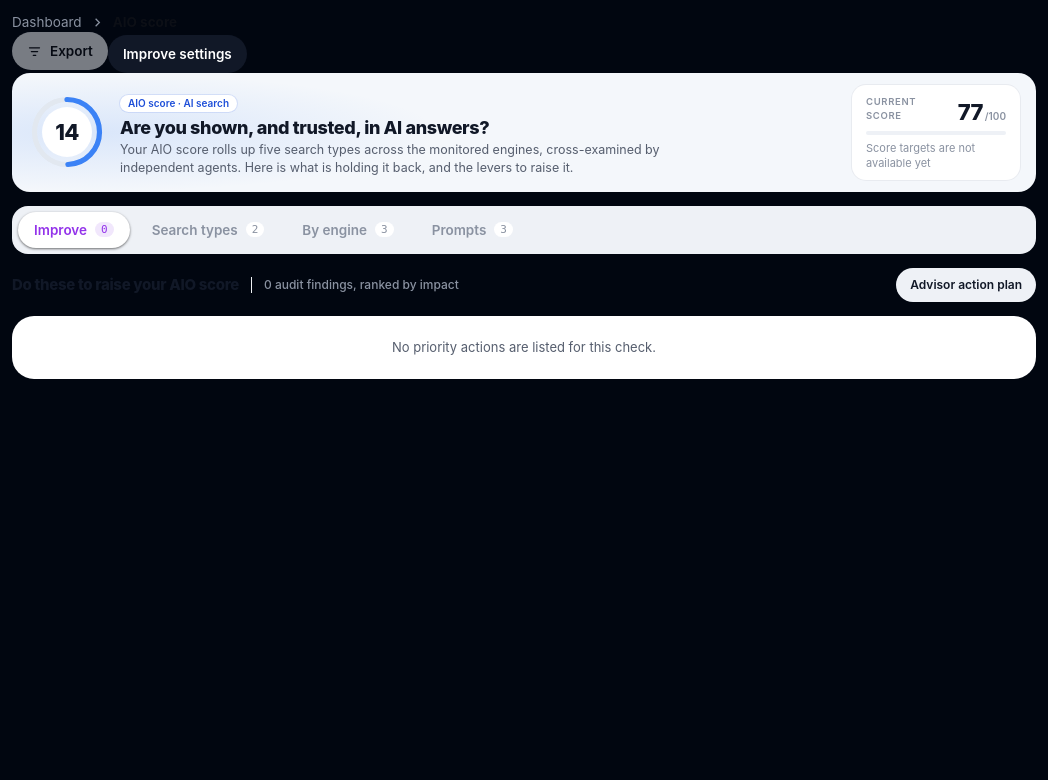
ProjectAeoPage (approved AIO detail) › switches to the Search types tab and expands a row
This screenshot has width=1048, height=780.
Click the tab "Search types 2".
click(208, 230)  # box [136,212,280,248]
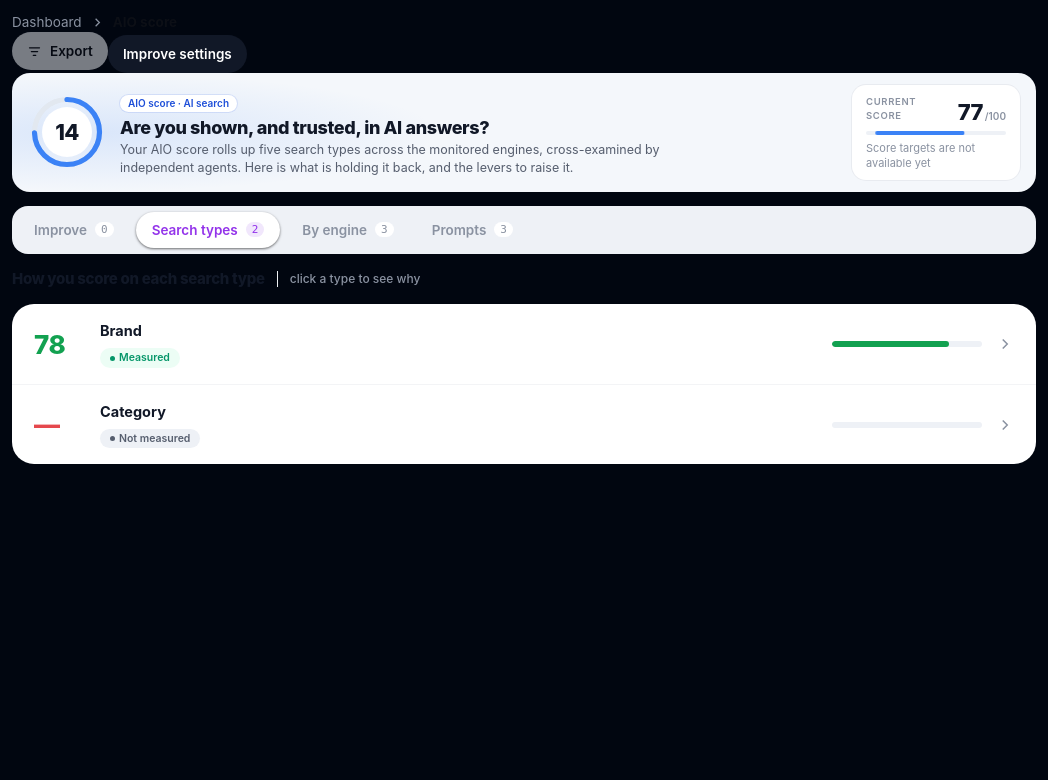
Check: the button "— Category Not measured" does not show "Estimated", box [12,385,1036,464]
Check: the button "78 Brand Measured" is shown
Check: the button "— Category Not measured" is shown, box [12,385,1036,464]
Click the button "78 Brand Measured".
click(50, 344)  # box [12,304,1036,384]
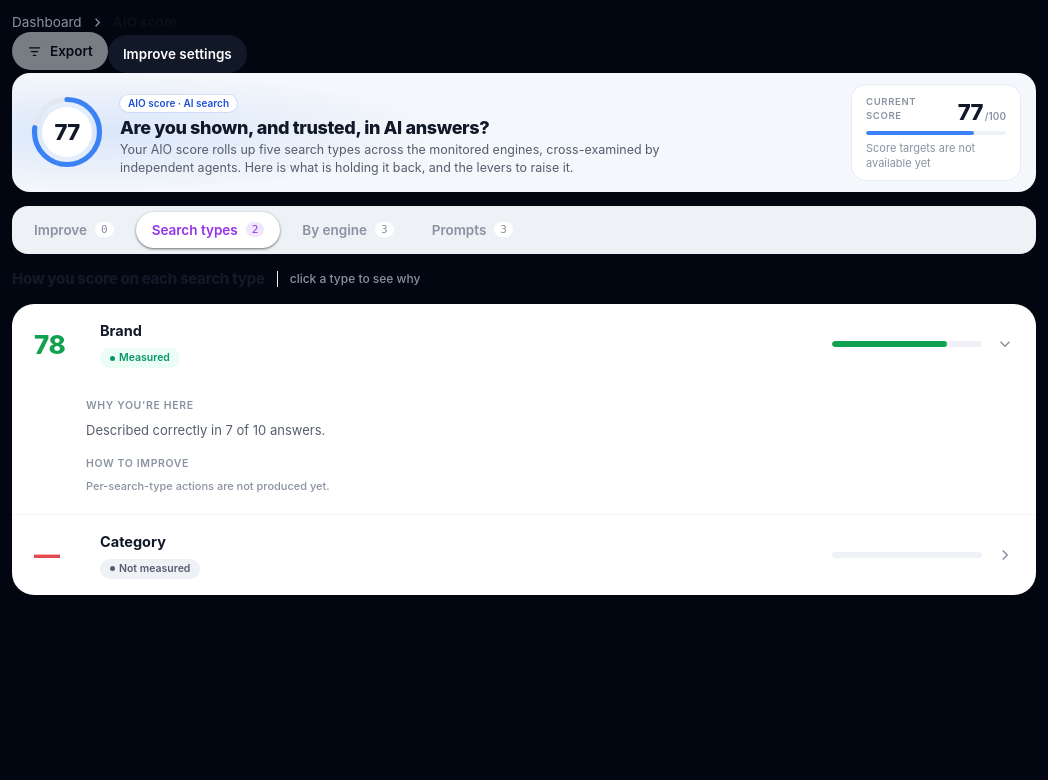
Check: the text "Described correctly in 7 of 10 answers." is shown, box [86,422,325,438]
Check: the text "Per-search-type actions are not produced yet." is shown, box [86,479,330,493]
